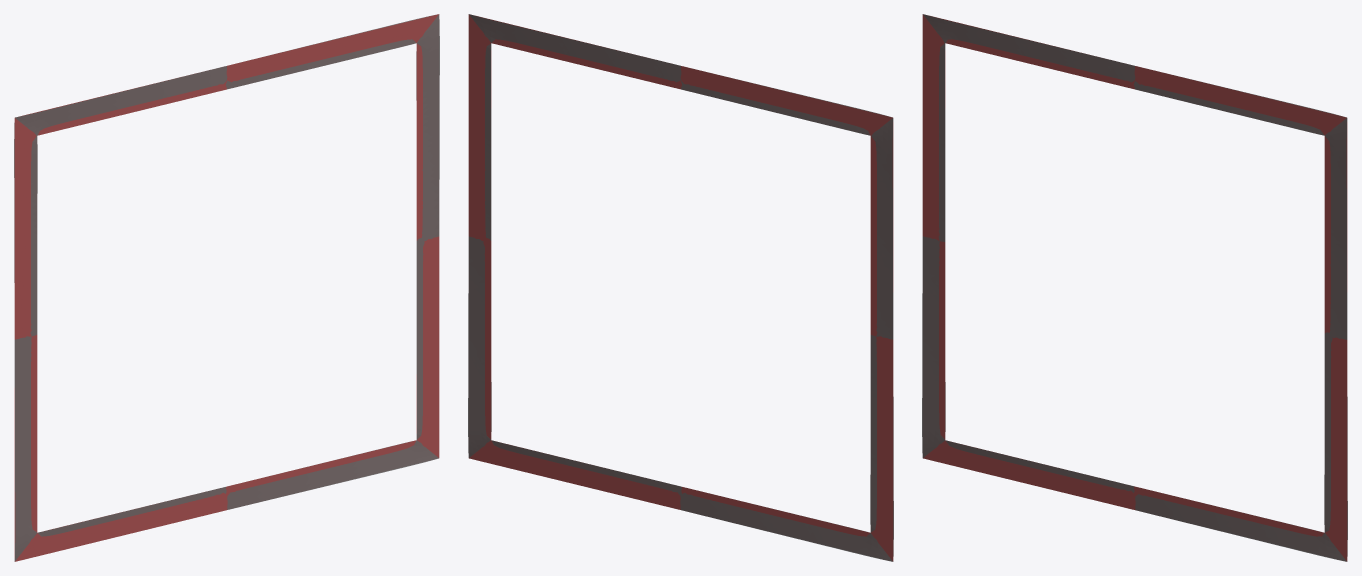
Rendered from warping-rhs-150-150-8-0-0-1600.glb.
The picture shows the model from 3 angles, left to right: view 1: azimuth 30°, elevation 25°; view 2: azimuth 150°, elevation 25°; view 3: azimuth 330°, elevation 25°; orthographic projection.
Parts seen in each view (by area): view 1: undeformed cross-section, cross-section with warping; view 2: undeformed cross-section, cross-section with warping; view 3: undeformed cross-section, cross-section with warping.
Part boxes in pixels (x1=…): undeformed cross-section: x1=14, y1=14, x2=439, y2=561; cross-section with warping: x1=14, y1=14, x2=439, y2=561; undeformed cross-section: x1=468, y1=14, x2=893, y2=561; cross-section with warping: x1=468, y1=14, x2=893, y2=561; undeformed cross-section: x1=922, y1=14, x2=1347, y2=561; cross-section with warping: x1=922, y1=14, x2=1347, y2=561.
Bounding box in the file's own units: 0.15 × 0.15 × 0.0007.
